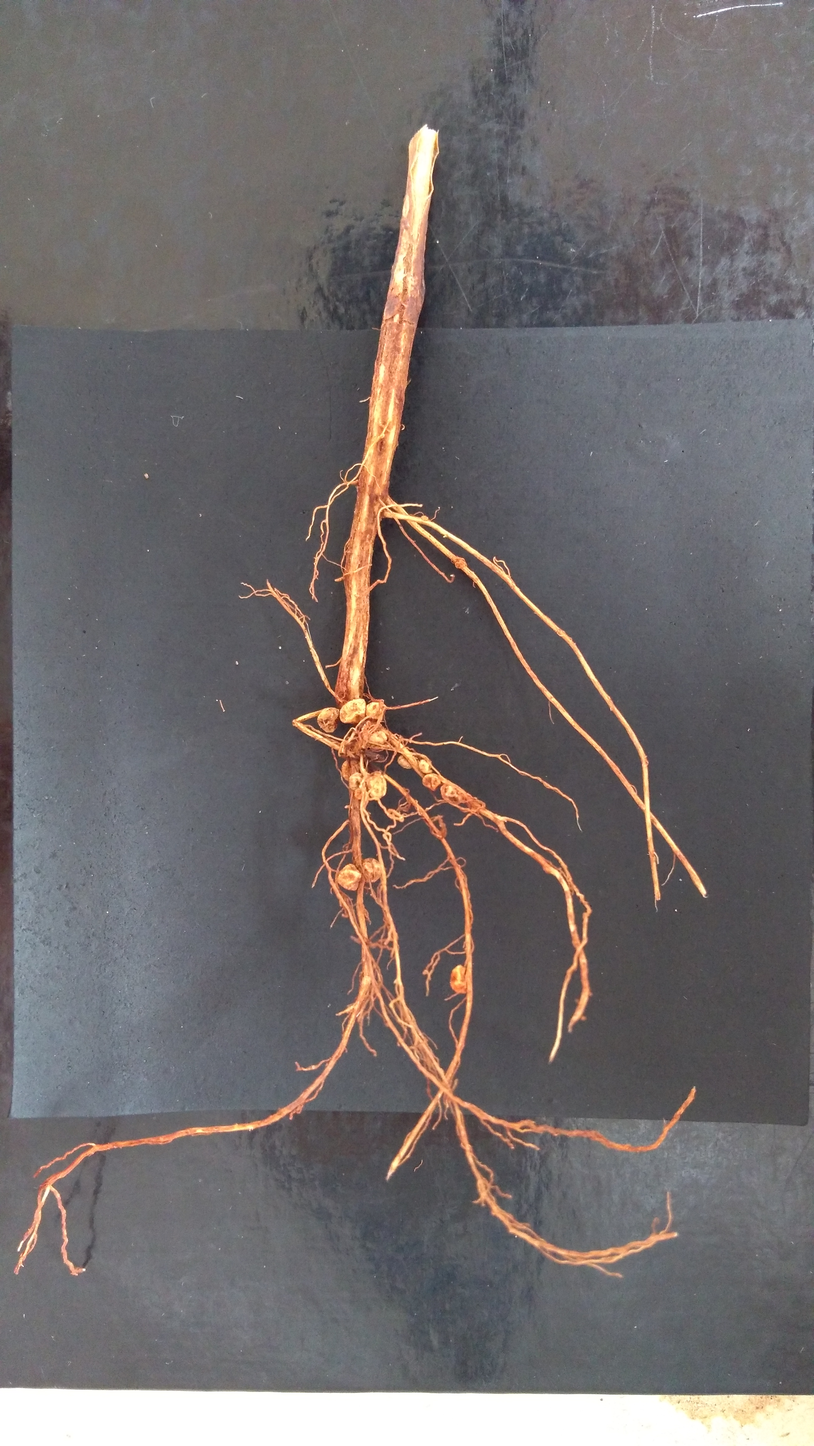nodule: (359, 771, 387, 800), (339, 698, 366, 724), (360, 720, 387, 746), (337, 863, 361, 890), (316, 707, 340, 733), (361, 858, 382, 883), (449, 965, 467, 994), (440, 784, 464, 803), (341, 759, 361, 781), (365, 701, 384, 721), (422, 773, 442, 791), (397, 754, 419, 769), (349, 772, 365, 790), (419, 759, 433, 775), (354, 786, 365, 799), (454, 559, 466, 569), (420, 515, 429, 521)
